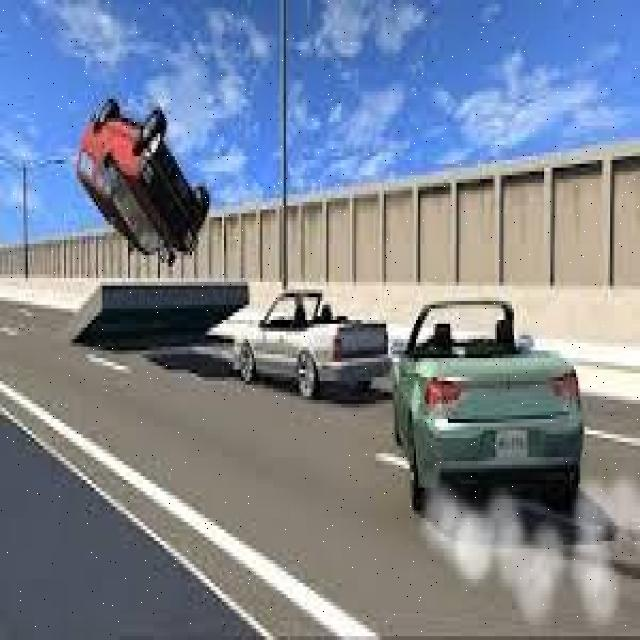severe: (75, 90, 211, 264)
